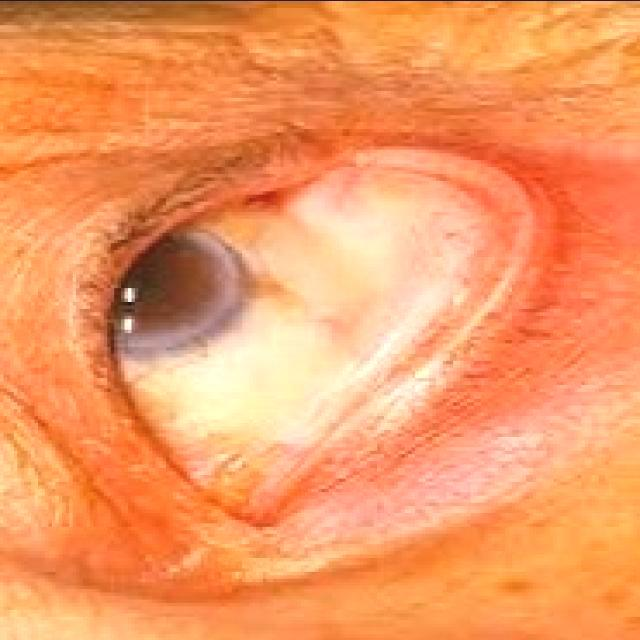conjunctiva_pallor: (292, 164, 516, 462)
